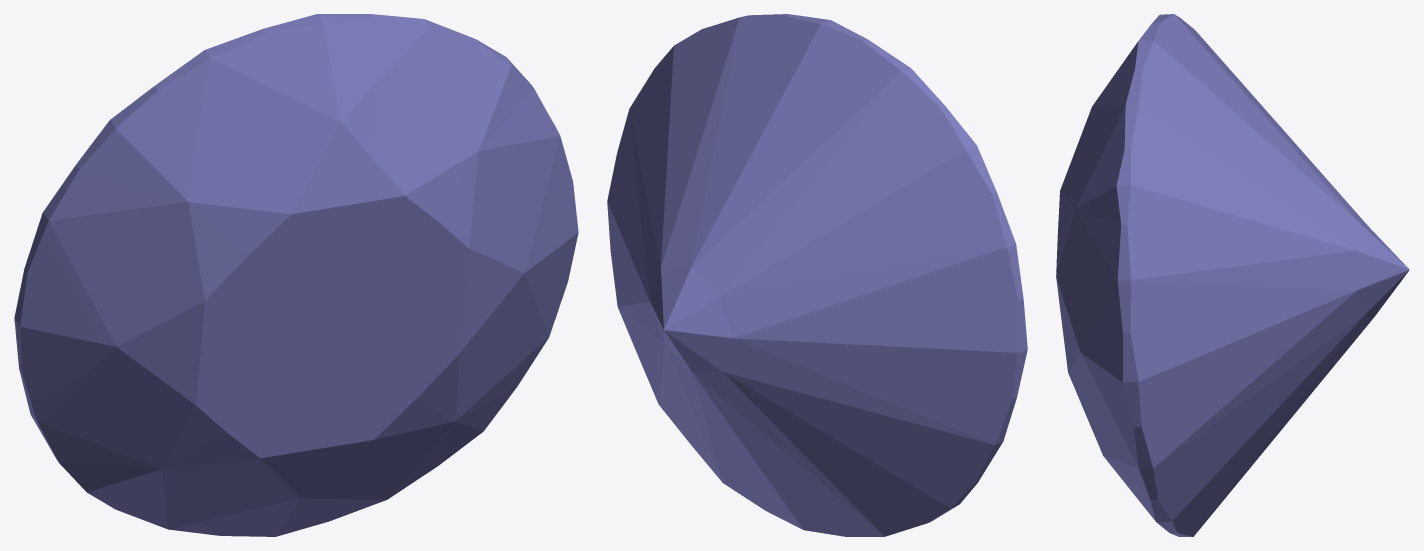
File: TL1_8shapes_Round_Classic_Stone.001 2.glb
3 views of the same model, side by side, from view 1: azimuth 30°, elevation 25°; view 2: azimuth 150°, elevation 25°; view 3: azimuth 270°, elevation 25° (orthographic). The views are drawn at different scales.
Parts seen in each view (by area): view 1: TL1_8shapes_Round_Classic_Stone.001; view 2: TL1_8shapes_Round_Classic_Stone.001; view 3: TL1_8shapes_Round_Classic_Stone.001.
Part boxes in pixels (bbox=[...]): TL1_8shapes_Round_Classic_Stone.001: bbox=[14, 14, 578, 536]; TL1_8shapes_Round_Classic_Stone.001: bbox=[607, 14, 1027, 536]; TL1_8shapes_Round_Classic_Stone.001: bbox=[1056, 14, 1409, 536].
Size of the model in its own units: 0.528 by 0.5314 by 0.3565.
